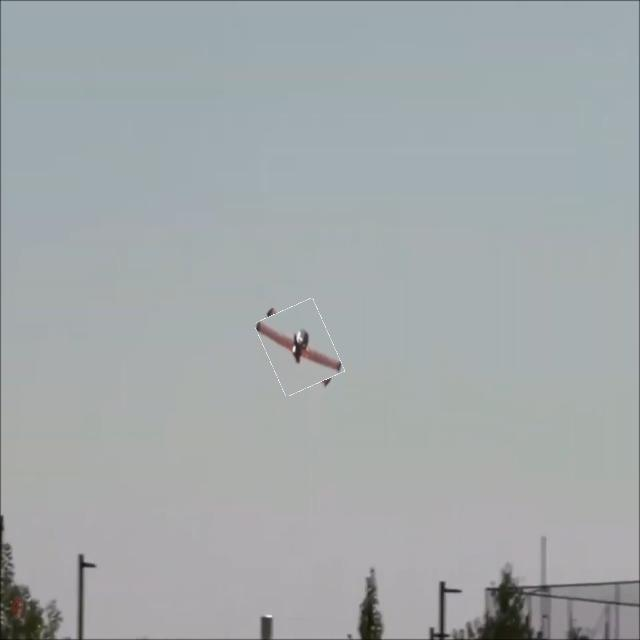Airplane: (253, 304, 348, 396)
